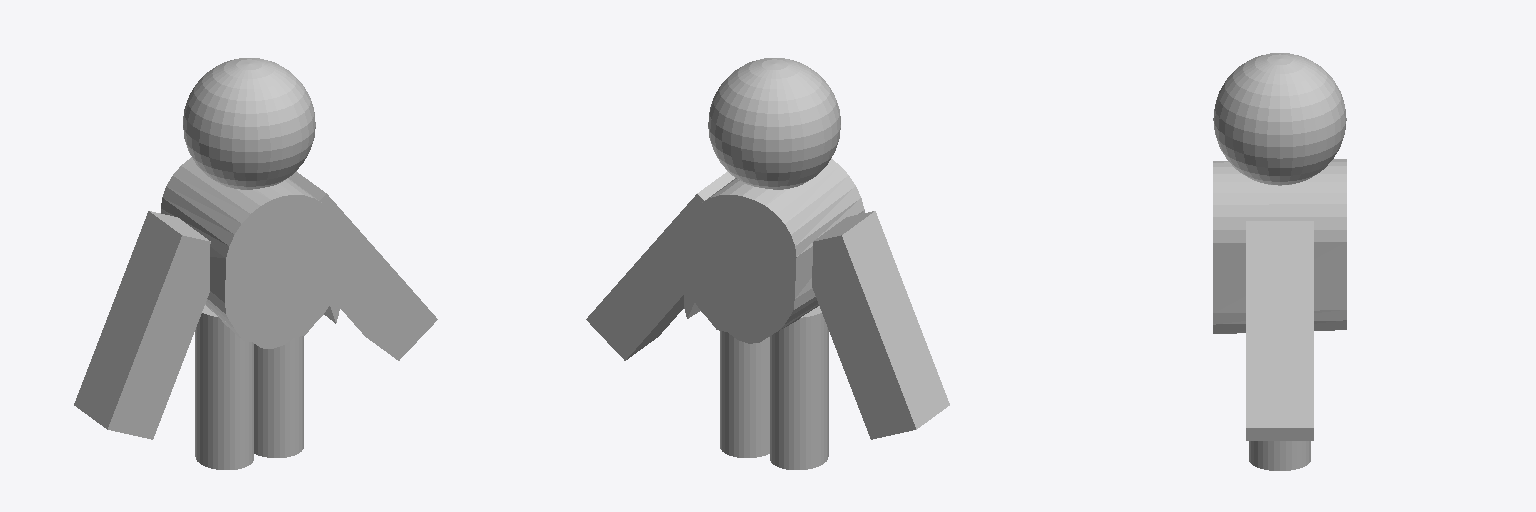
The model's file is Figurine42.obj.
3 renders of one model, left to right at view 1: azimuth 30°, elevation 25°; view 2: azimuth 150°, elevation 25°; view 3: azimuth 270°, elevation 25°, orthographic.
Parts seen in each view (by area): view 1: Cylinder; view 2: Cylinder; view 3: Cylinder.
Part boxes in pixels (left/top/right/bottom): Cylinder: left=74, top=58, right=437, bottom=469; Cylinder: left=586, top=58, right=949, bottom=469; Cylinder: left=1213, top=53, right=1346, bottom=470.
Bounding box in the file's own units: 5.73 × 6.42 × 2.